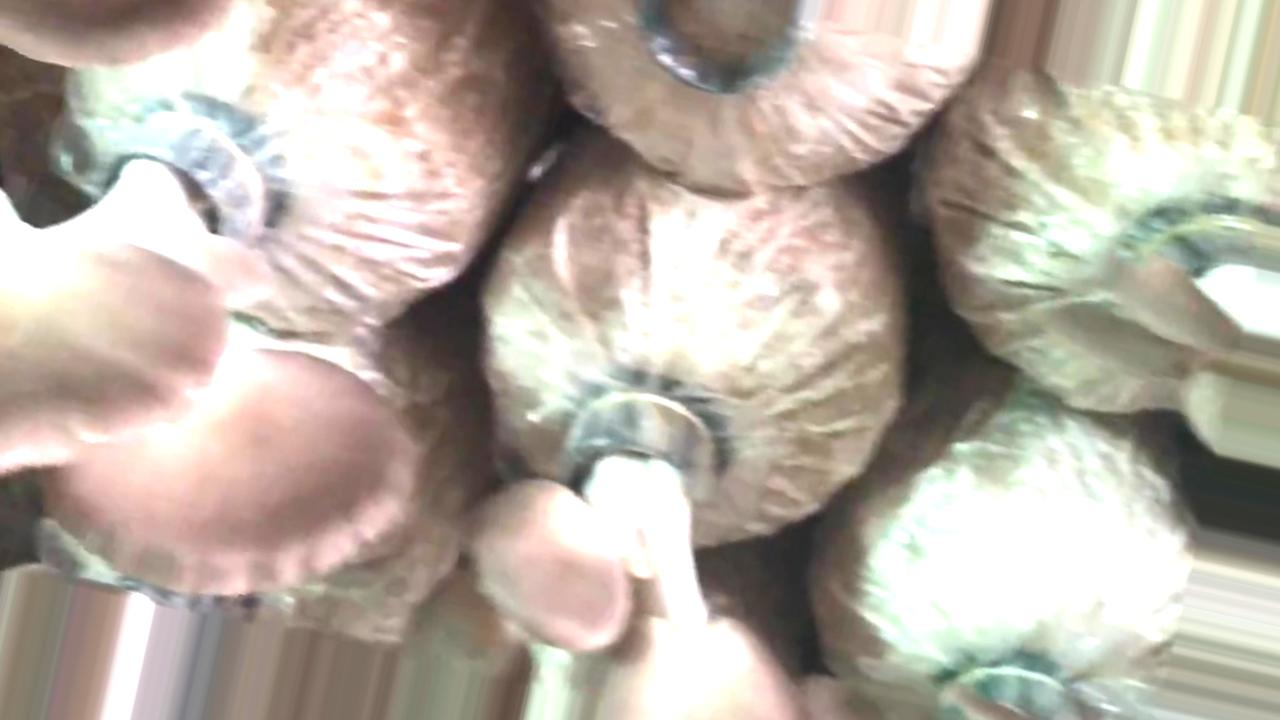nam: (1, 98, 414, 596), (473, 391, 805, 720)
